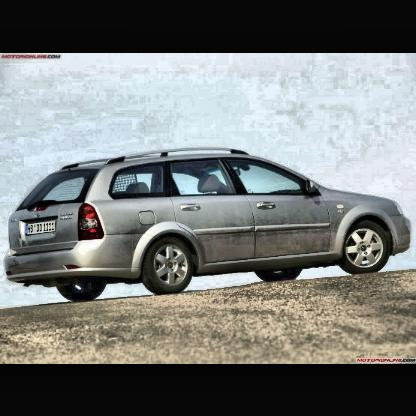Daewoo Nubira Wagon 2002: (3, 144, 413, 302)
